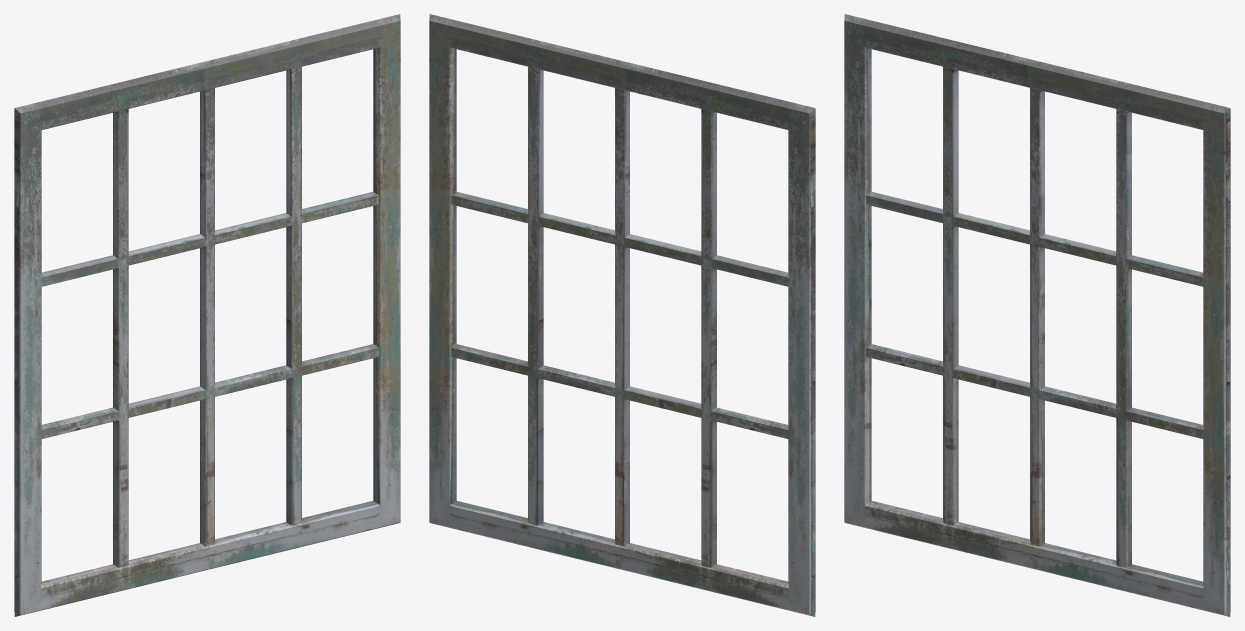
Rendered from sm_Wall_06_20_Window.fbx.
3 views of the same model, side by side, from view 1: azimuth 30°, elevation 25°; view 2: azimuth 150°, elevation 25°; view 3: azimuth 330°, elevation 25° (orthographic).
Visible parts, largest first — view 1: sm_Wall_06_20_Window_LOD0; view 2: sm_Wall_06_20_Window_LOD0; view 3: sm_Wall_06_20_Window_LOD0.
Part boxes in pixels (bbox=[...]): sm_Wall_06_20_Window_LOD0: bbox=[14, 14, 400, 616]; sm_Wall_06_20_Window_LOD0: bbox=[429, 14, 815, 616]; sm_Wall_06_20_Window_LOD0: bbox=[844, 14, 1230, 616].
Bounding box in the file's own units: 4.98 × 172 × 217.
